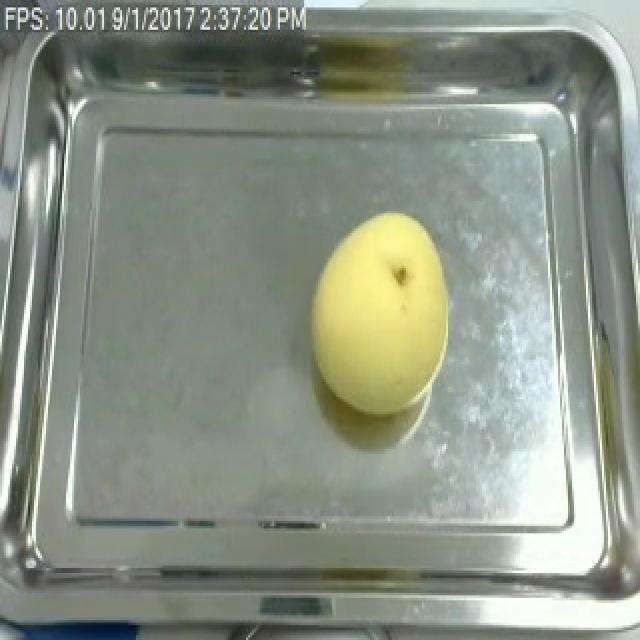Fruit: (300, 203, 458, 422)
